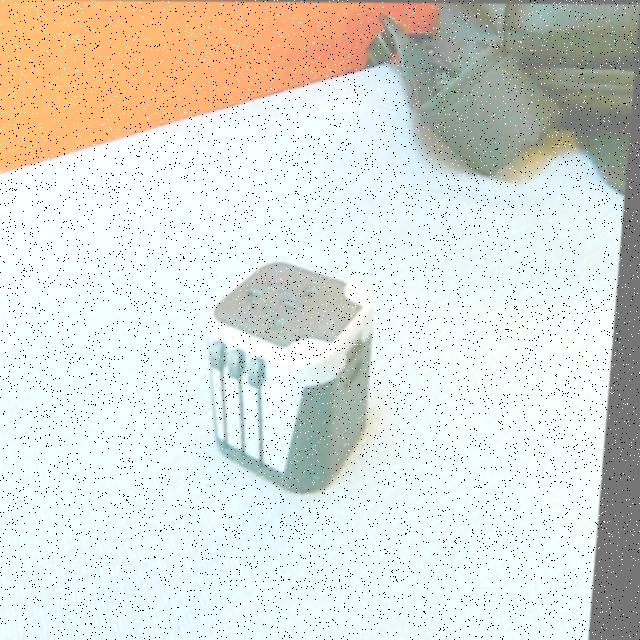adapter: (201, 256, 386, 492)
